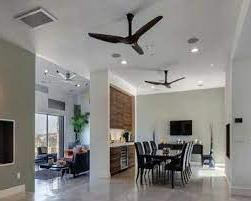TV: (0, 116, 18, 170), (167, 119, 196, 139)
chair: (163, 141, 188, 190), (130, 141, 158, 183), (167, 140, 191, 181), (170, 138, 193, 179), (143, 142, 165, 178), (149, 140, 168, 169), (37, 145, 56, 165)
console: (157, 143, 206, 166)
fan: (81, 7, 171, 55), (144, 68, 187, 92), (39, 68, 88, 87)
light: (188, 45, 203, 57), (117, 56, 132, 68), (198, 79, 207, 86)
sofa: (62, 148, 89, 177)
table: (39, 162, 70, 188)
